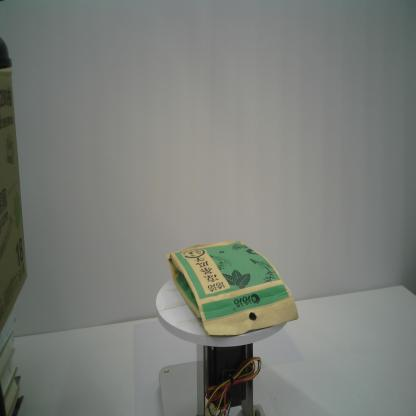Dried Food: (162, 237, 301, 338)
